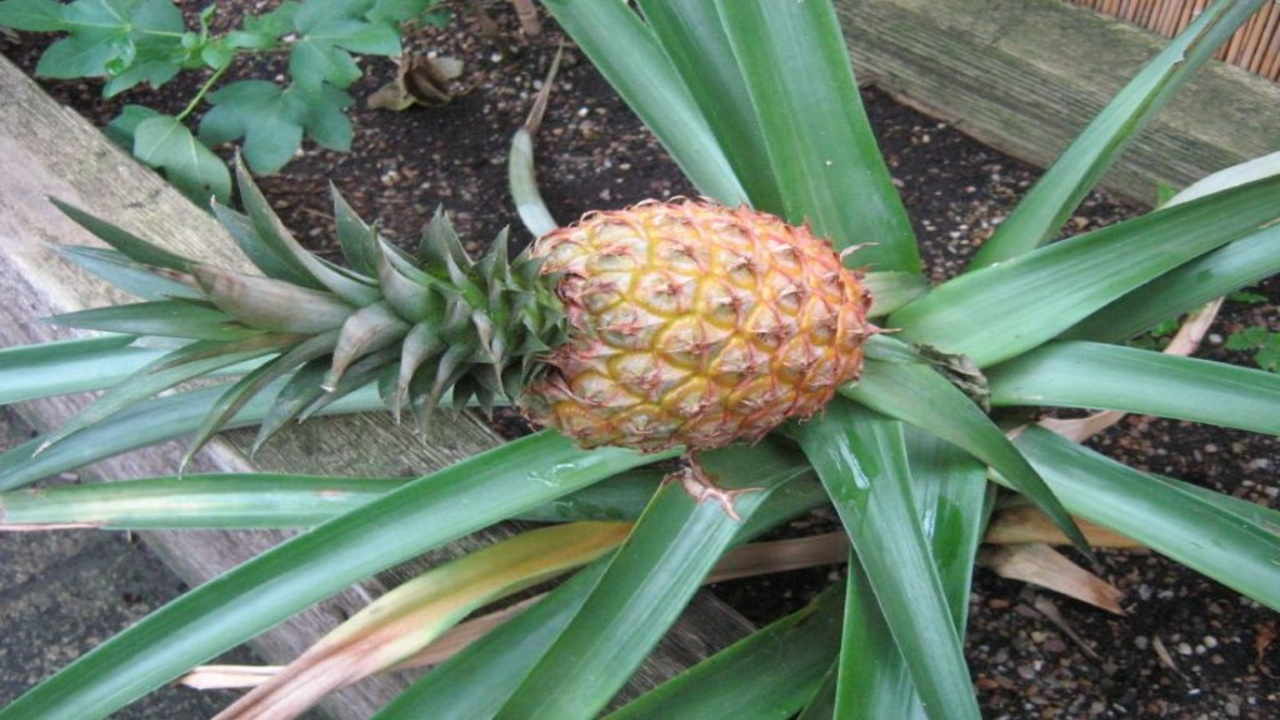pineapple: (211, 159, 874, 460)
